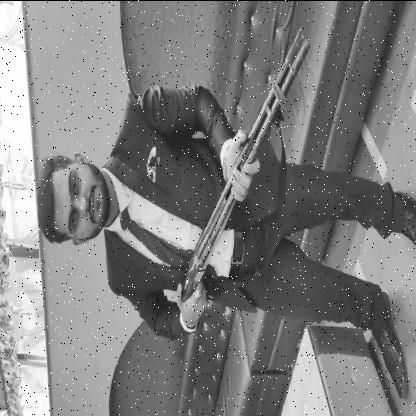rifle: (178, 23, 312, 305)
